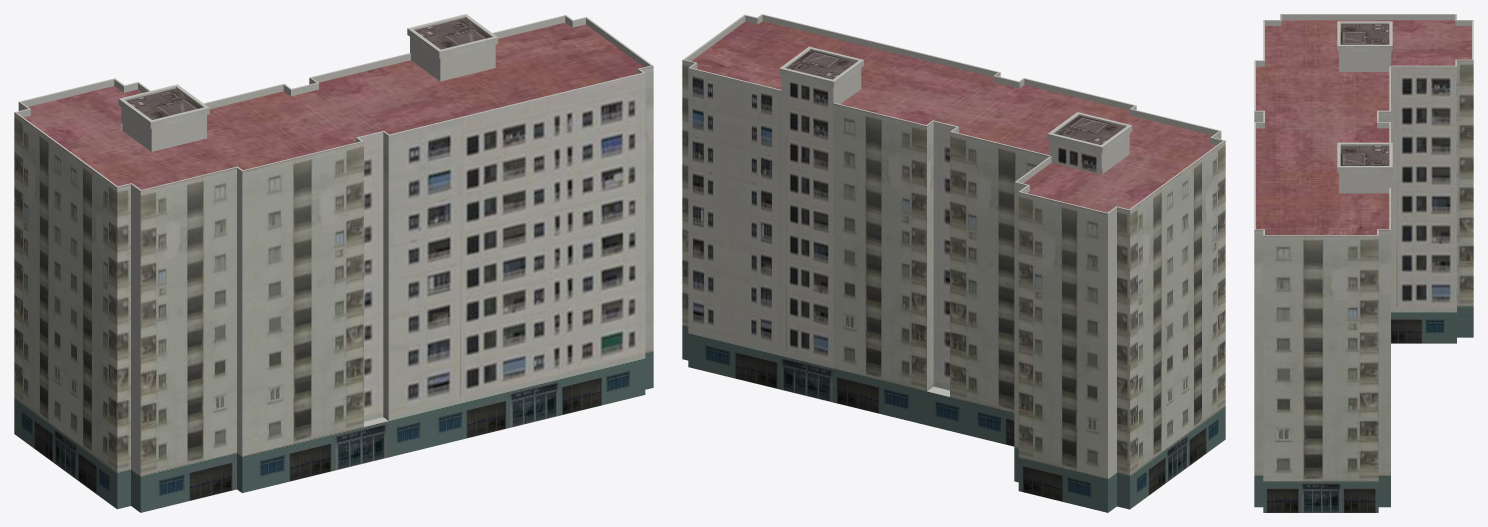
3 views of the same model, side by side, from view 1: azimuth 30°, elevation 25°; view 2: azimuth 150°, elevation 25°; view 3: azimuth 270°, elevation 25° (orthographic). The views are drawn at different scales.
Visible parts, largest first — view 1: HN1357_ChungCuCT4_3MeTri; view 2: HN1357_ChungCuCT4_3MeTri; view 3: HN1357_ChungCuCT4_3MeTri.
Boxes of the visible parts, x1,y1,x2,y2 form: HN1357_ChungCuCT4_3MeTri: (14, 14, 653, 512); HN1357_ChungCuCT4_3MeTri: (682, 14, 1225, 512); HN1357_ChungCuCT4_3MeTri: (1254, 14, 1473, 512).
Size of the model in its own units: 63.62 by 39.95 by 26.58.
1 material, 1 textured.
